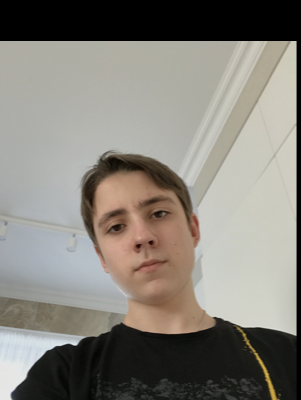without_mask: (93, 190, 194, 305)
